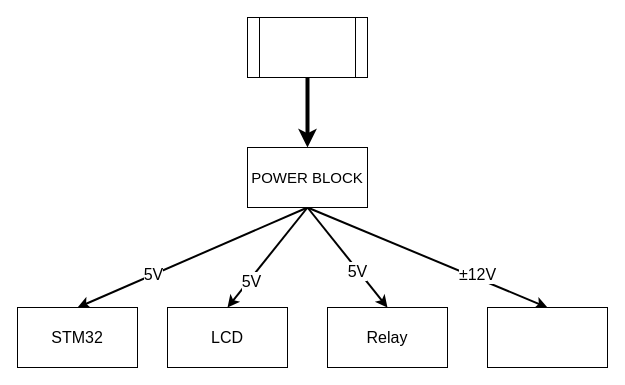
Some shapes in this 625 by 385 pixel diagram are drawn without their labels. Each missing label, with the box of its shape:
OPAMP: (486, 306, 608, 368)
~220VAc: (246, 16, 368, 78)
